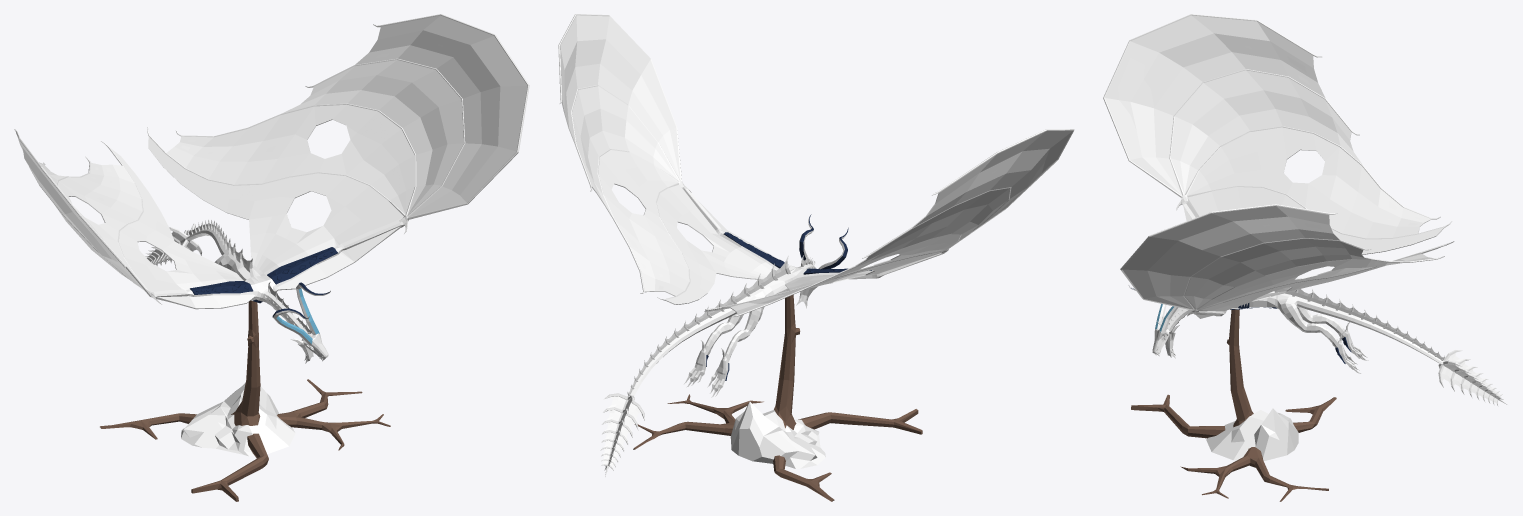
Rendered from YinYangWyvern.fbx.
The picture shows the model from 3 angles, left to right: view 1: azimuth 30°, elevation 25°; view 2: azimuth 150°, elevation 25°; view 3: azimuth 270°, elevation 25°; orthographic projection. The views are drawn at different scales.
Parts seen in each view (by area): view 1: Tail2.007; view 2: Tail2.007; view 3: Tail2.007.
Part boxes in pixels (x1,y1,x2,y2): Tail2.007: [14, 14, 529, 501]; Tail2.007: [558, 14, 1074, 501]; Tail2.007: [1103, 14, 1507, 501].
Bounding box in the file's own units: 723 × 539 × 594.
